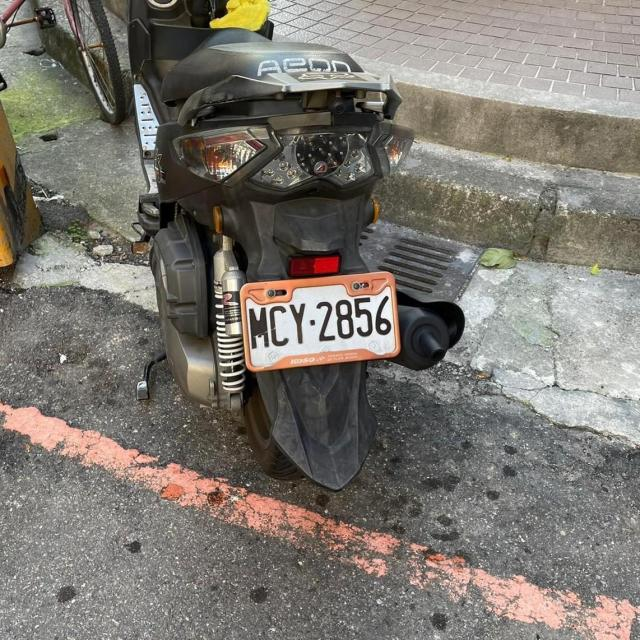W: (235, 267, 406, 377)
